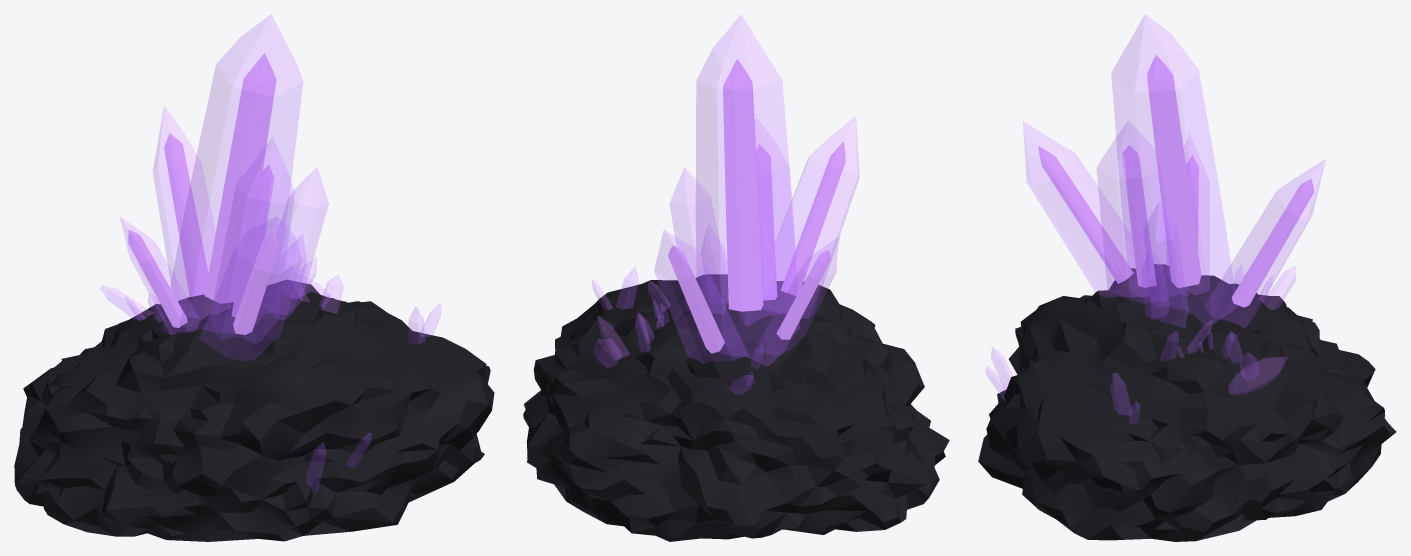
File: Crystals_05_web.glb
3 views of the same model, side by side, from view 1: azimuth 30°, elevation 25°; view 2: azimuth 150°, elevation 25°; view 3: azimuth 270°, elevation 25° (orthographic). The views are drawn at different scales.
Visible parts, largest first — view 1: Crystals_05_Rock, Crystals_05_Crystals, Crystals_05_Cores; view 2: Crystals_05_Rock, Crystals_05_Crystals, Crystals_05_Cores; view 3: Crystals_05_Rock, Crystals_05_Crystals, Crystals_05_Cores.
Boxes of the visible parts, x1,y1,x2,y2 form: Crystals_05_Rock: (14, 280, 494, 541); Crystals_05_Crystals: (100, 14, 440, 494); Crystals_05_Cores: (128, 53, 279, 334); Crystals_05_Rock: (523, 274, 949, 541); Crystals_05_Crystals: (592, 14, 859, 394); Crystals_05_Cores: (668, 59, 845, 353); Crystals_05_Rock: (978, 264, 1396, 541); Crystals_05_Crystals: (986, 14, 1325, 424); Crystals_05_Cores: (1038, 55, 1313, 307).
Bounding box in the file's own units: 1.08 × 1.11 × 0.9526.
